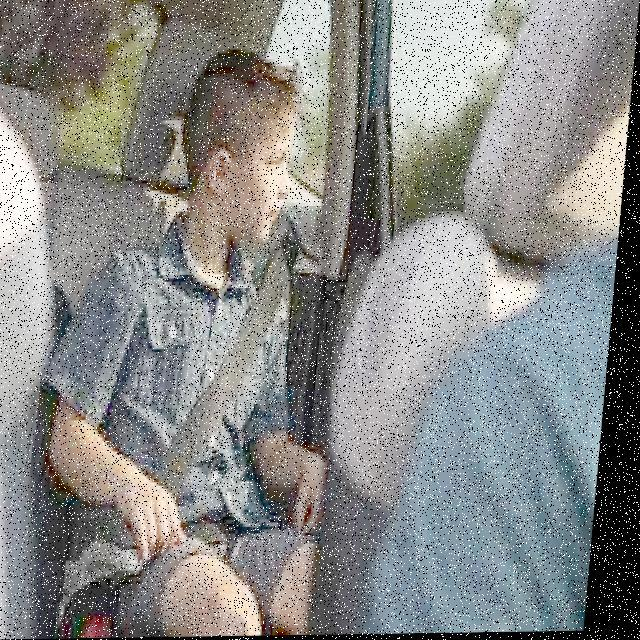seatbelt: (100, 202, 330, 474)
